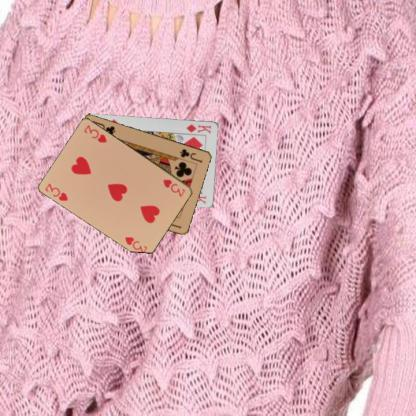3h: (42, 181, 70, 203), (160, 176, 186, 198)
Jc: (177, 146, 204, 164)
Kd: (184, 121, 212, 135)
